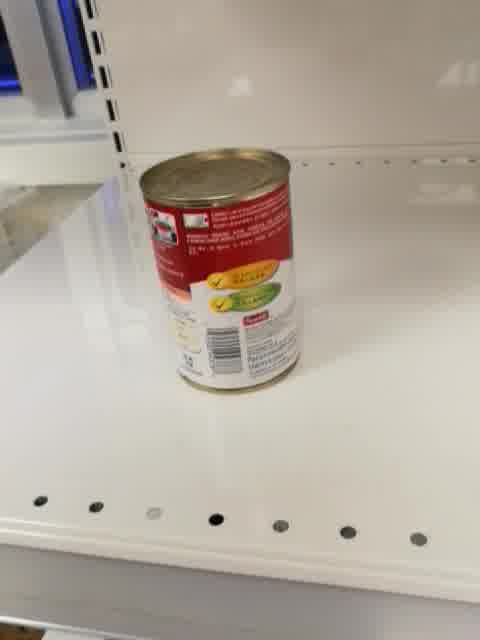tomatosoup: (138, 146, 305, 397)
